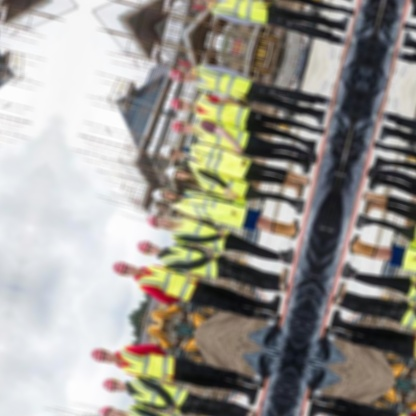red: (107, 256, 131, 280), (167, 116, 190, 137), (133, 237, 155, 258), (165, 64, 186, 85), (167, 94, 187, 114), (144, 211, 163, 231)
vest: (171, 182, 251, 232), (178, 139, 256, 183), (154, 237, 225, 284), (132, 260, 199, 307), (165, 213, 235, 256), (188, 62, 256, 104), (189, 115, 255, 157), (190, 91, 255, 133), (185, 167, 252, 203)
white: (148, 184, 170, 205), (160, 162, 182, 182), (155, 142, 175, 160)
